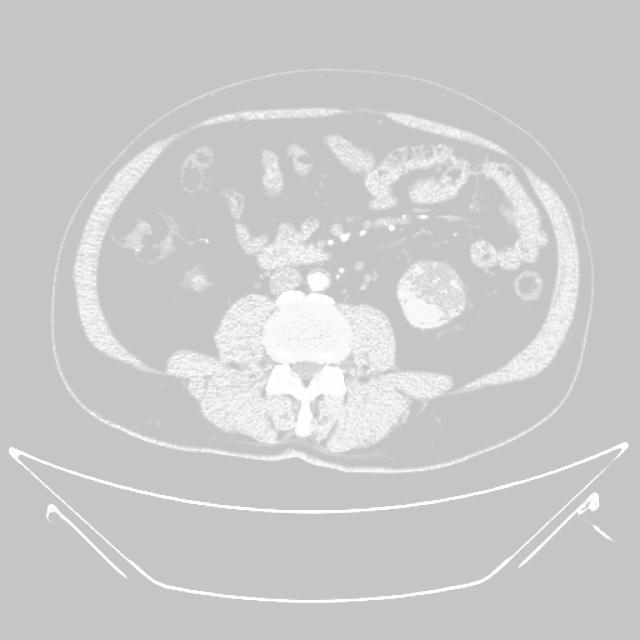TUMOR: (154, 243, 477, 355)
